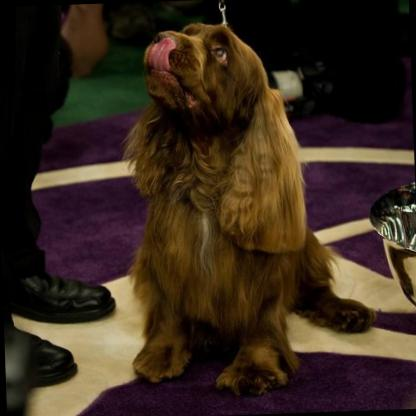Sussex_spaniel: (102, 5, 377, 406)
